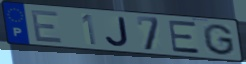1: (81, 13, 98, 46)
7: (135, 15, 161, 53)
E: (29, 9, 65, 45), (166, 20, 202, 55)
G: (201, 23, 237, 57)
J: (104, 16, 131, 48)
